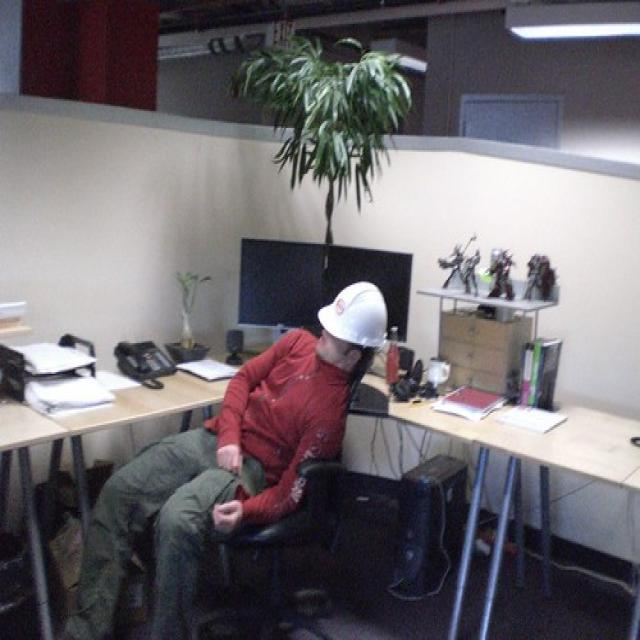Reflective-Jacket: (204, 328, 357, 524)
Safety-Helmet: (315, 272, 397, 358)
